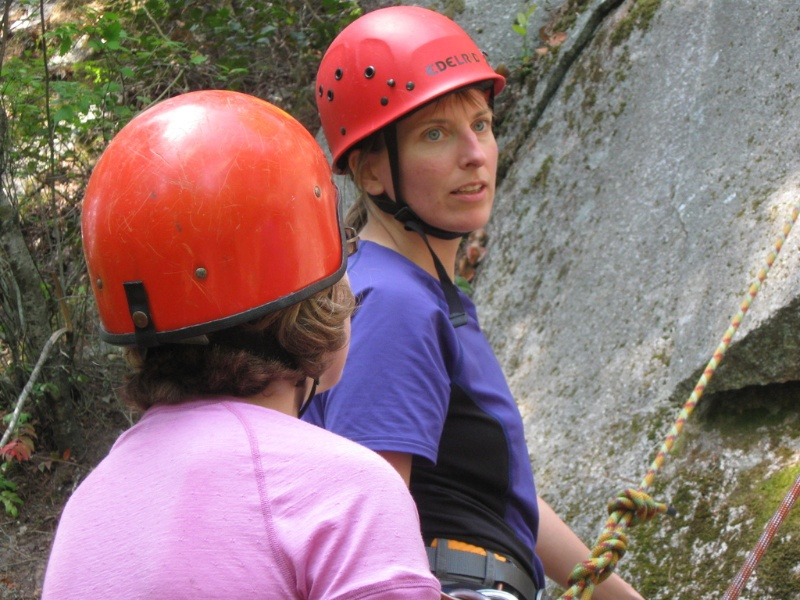Baret: (80, 89, 354, 336), (312, 6, 512, 155)
